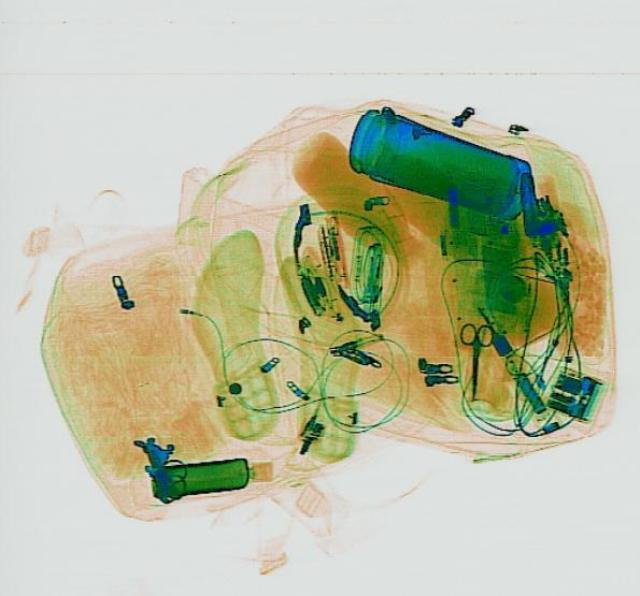Scissors: (453, 320, 493, 396)
